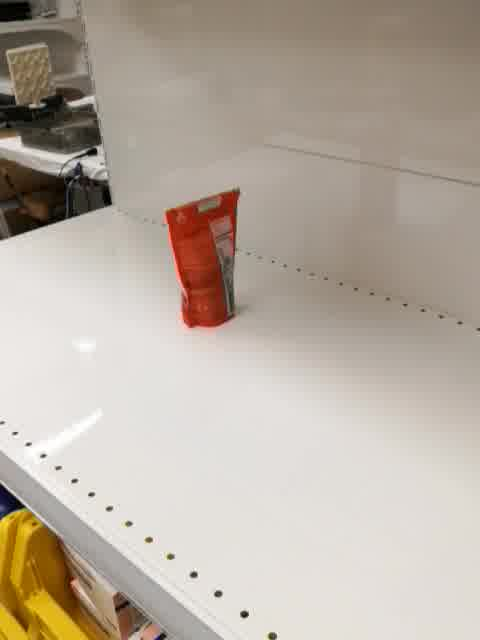whitechia: (163, 188, 245, 331)
